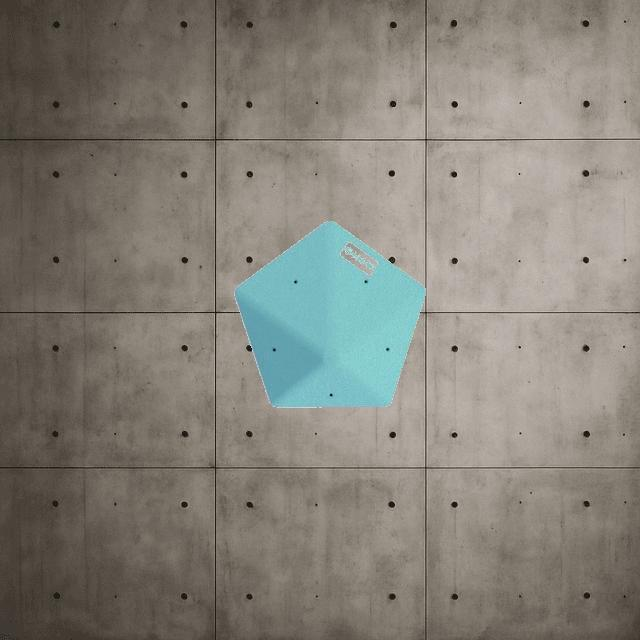Volume: (232, 219, 428, 407)
